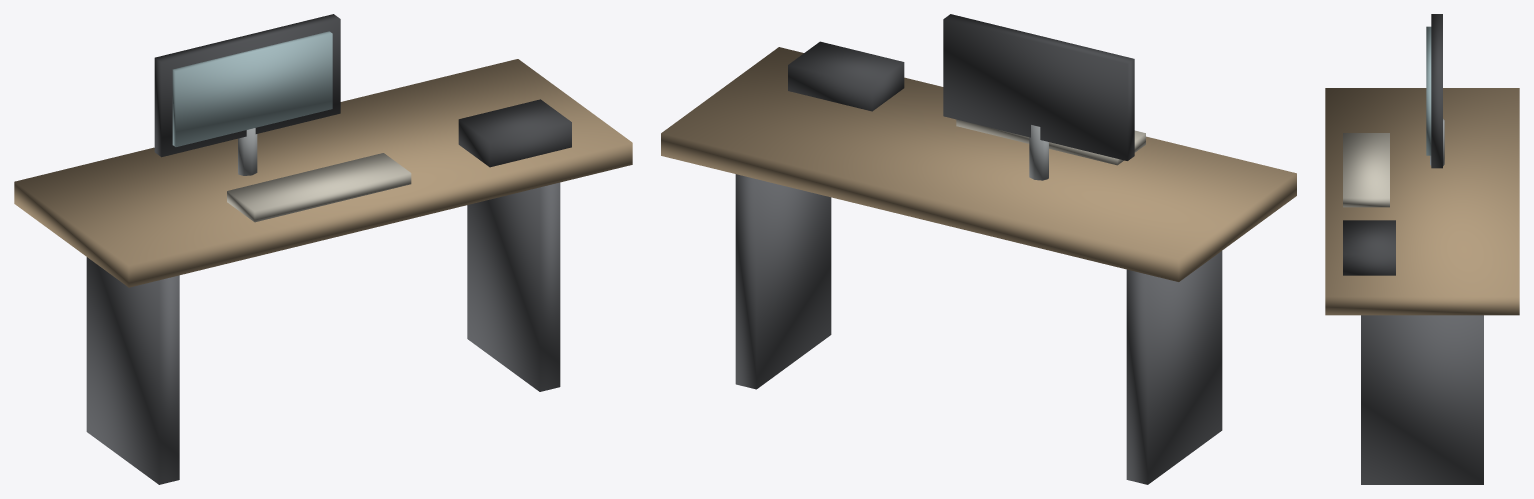
The model's file is modern_workstation__wide.glb.
3 views of the same model, side by side, from view 1: azimuth 30°, elevation 25°; view 2: azimuth 150°, elevation 25°; view 3: azimuth 270°, elevation 25° (orthographic). The views are drawn at different scales.
Visible parts, largest first — view 1: world; view 2: world; view 3: world.
Part boxes in pixels (bbox=[...]): world: bbox=[14, 14, 632, 484]; world: bbox=[661, 14, 1296, 484]; world: bbox=[1325, 14, 1519, 484].
Bounding box in the file's own units: 1.67 × 1.21 × 0.66.
